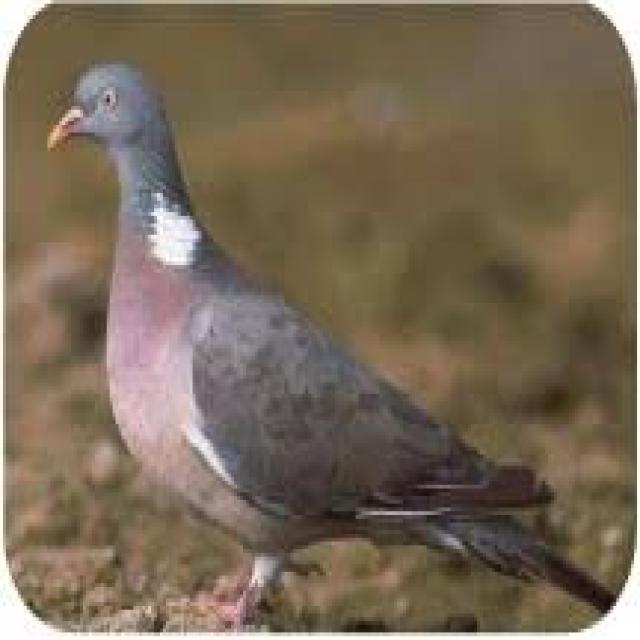pigeon: (31, 34, 588, 624)
